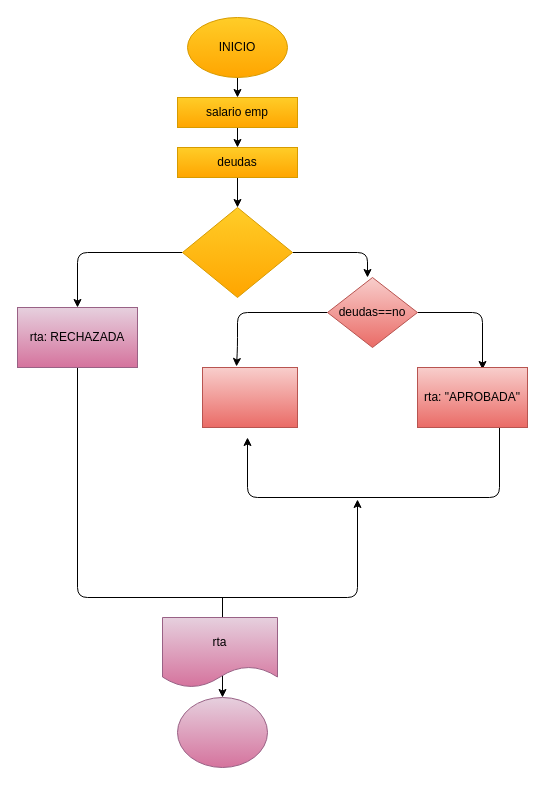
Some shapes in this 545 by 785 pixel diagram are drawn without their labels. The shapes that lost their labels are listed below. From the top down, each one's box as (x1, y1, x2, y2) in pixels, then its label:
(182, 206, 292, 298): salario emp>=945200
(202, 366, 298, 428): rta: "RECHAZADA"
(176, 696, 268, 768): FIN
